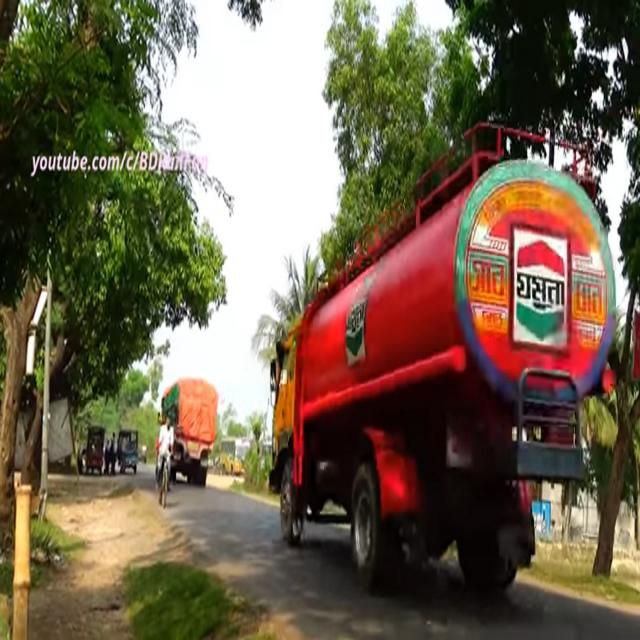bus: (223, 420, 244, 484)
truck: (268, 128, 623, 619), (159, 377, 220, 485)
